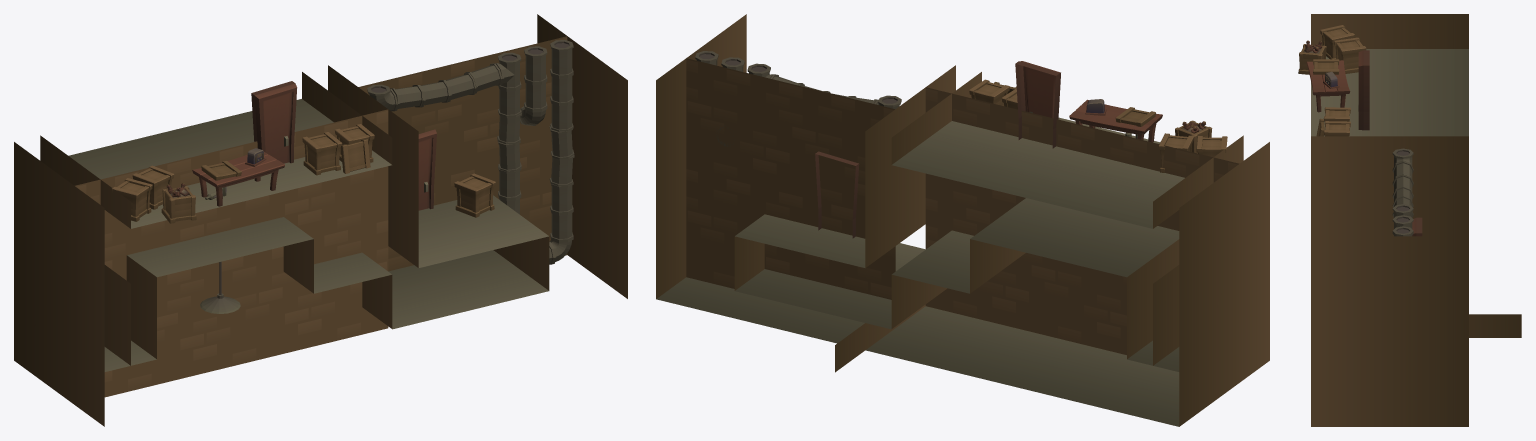
The model's file is Room32_8x20.fbx.
3 renders of one model, left to right at view 1: azimuth 30°, elevation 25°; view 2: azimuth 150°, elevation 25°; view 3: azimuth 270°, elevation 25°, orthographic. The views are drawn at different scales.
Visible parts, largest first — view 1: Room32_8x20; view 2: Room32_8x20; view 3: Room32_8x20.
Part boxes in pixels (left/top/right/bottom): Room32_8x20: left=14, top=14, right=627, bottom=426; Room32_8x20: left=656, top=14, right=1269, bottom=426; Room32_8x20: left=1298, top=14, right=1521, bottom=426.
Bounding box in the file's own units: 2000 × 848 × 977.
